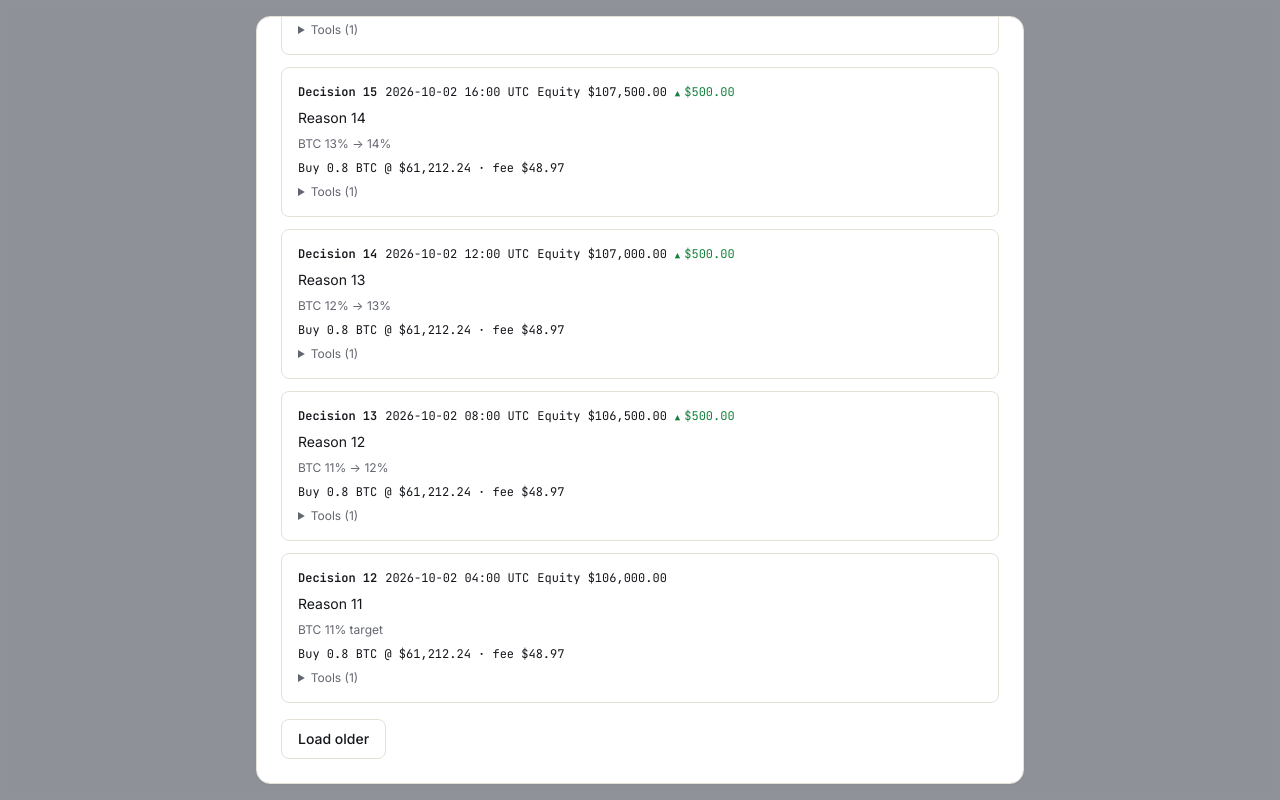
Test: reads 20 newest decisions then exclusive older cursor, with actual UTC and honest target boundaries
(page scrolled)
Expected: the text "BTC 11% target" is shown, left=298, top=622, right=383, bottom=638
Click the button "Load older": {"x": 334, "y": 739} left=281, top=719, right=386, bottom=759
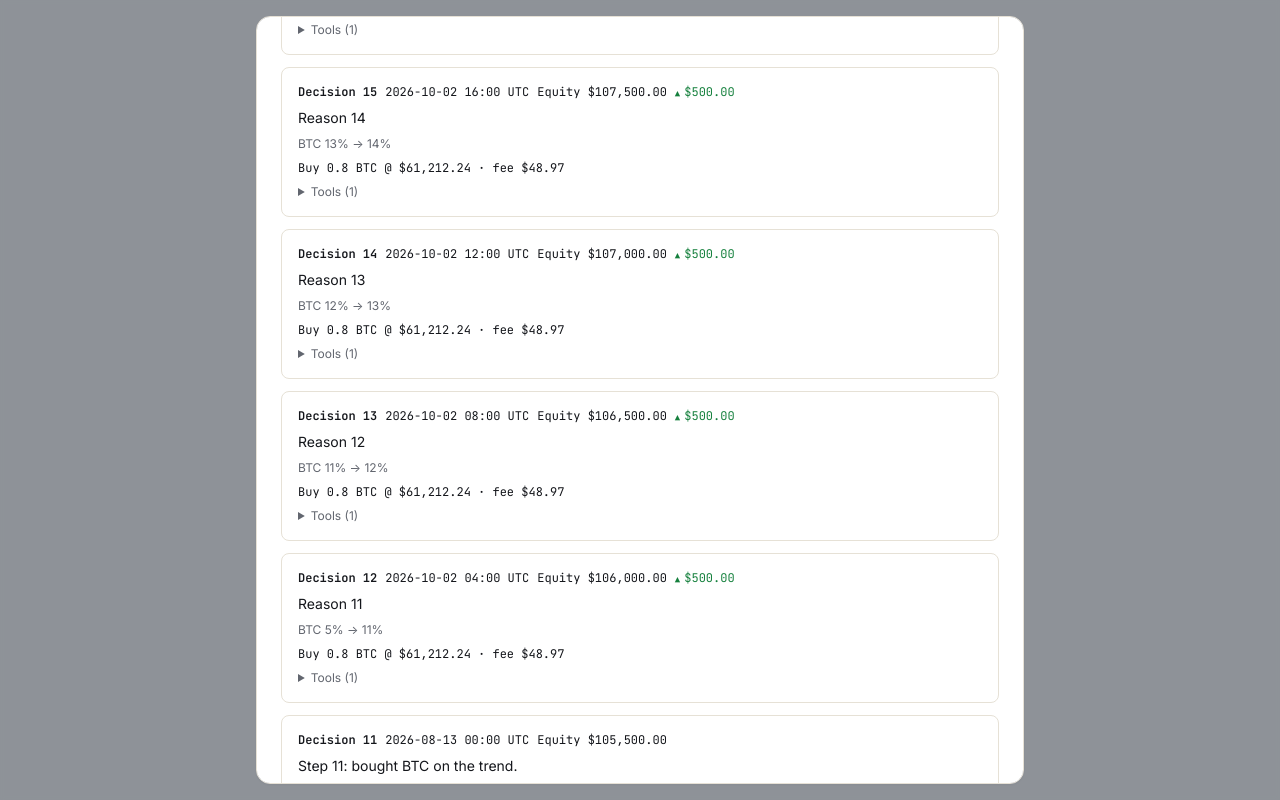
Now the text "BTC 5% → 11%" is shown, box left=298, top=622, right=383, bottom=638
Now the button "Load older" is gone
